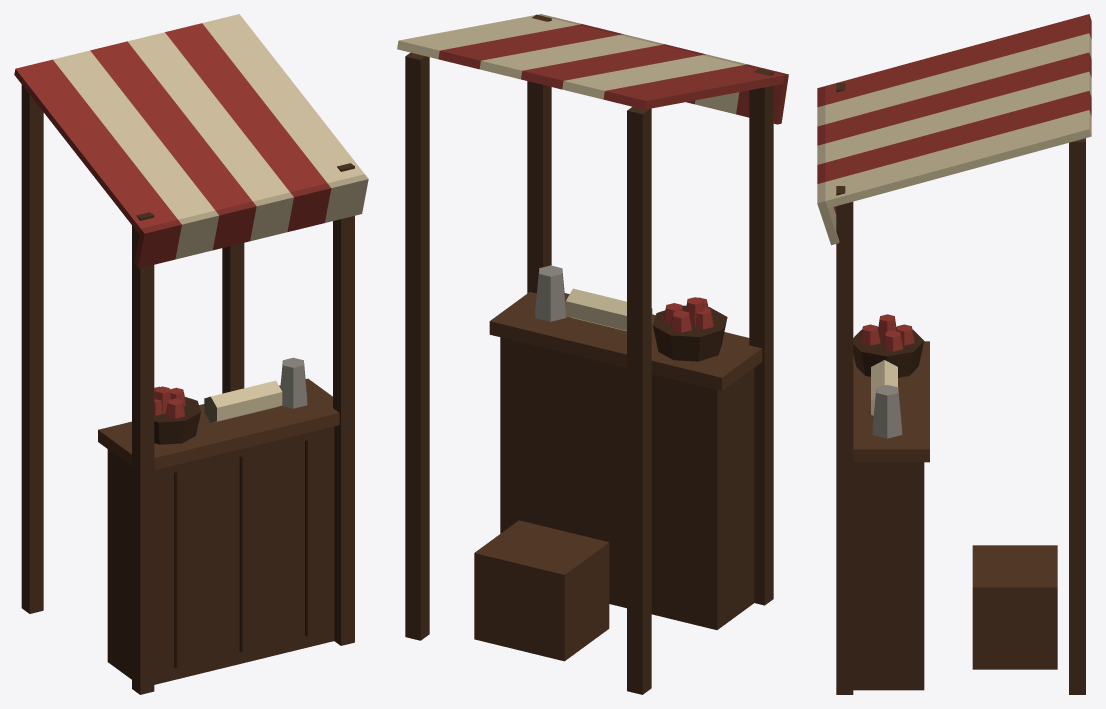
Rendered from market_stall.glb.
3 views of the same model, side by side, from view 1: azimuth 30°, elevation 25°; view 2: azimuth 150°, elevation 25°; view 3: azimuth 270°, elevation 25° (orthographic). The views are drawn at different scales.
Visible parts, largest first — view 1: market_stall; view 2: market_stall; view 3: market_stall.
Boxes of the visible parts, box(x1,y1,x2,y2) form: market_stall: box(14, 14, 368, 694); market_stall: box(397, 14, 788, 694); market_stall: box(817, 14, 1091, 694).
Size of the model in its own units: 0.96 by 2.21 by 0.9674.
